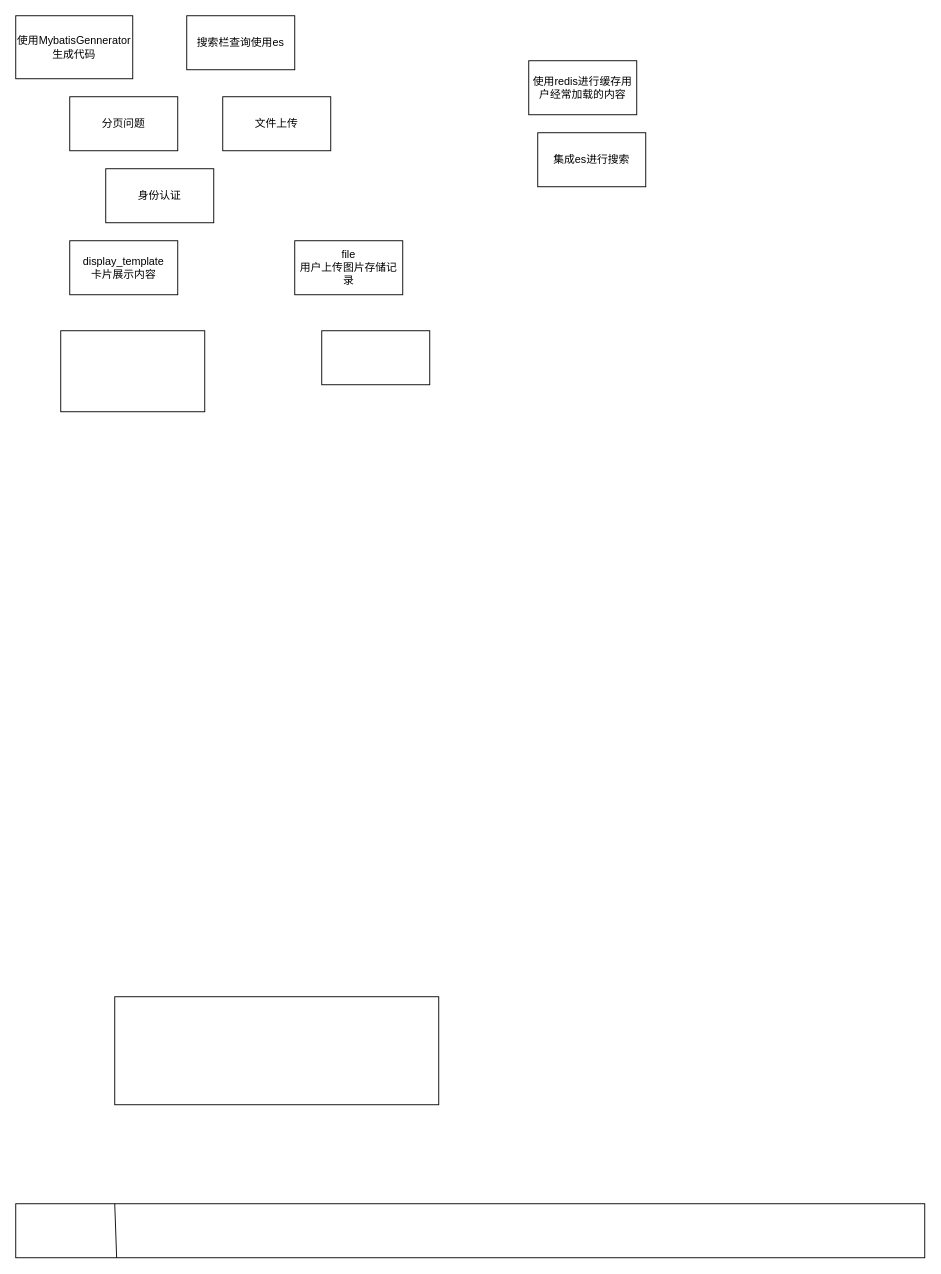
This 941x1274 diagram has some shape labels left out. The centre of each missing label's shape, as x and y in pixels:
actual_effect 点击卡片进去之后的下方列表 用于展示以前客户的效果: point 132,371
f(n) = f(n-1)+left-right: point 276,1050
